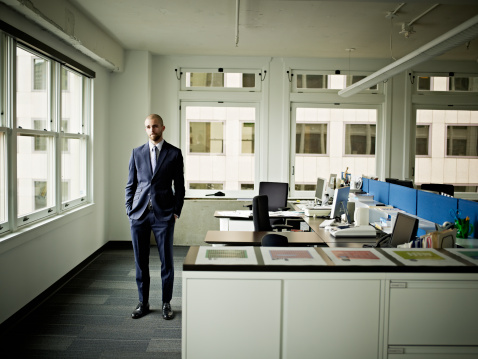em pe: (120, 108, 180, 322)
